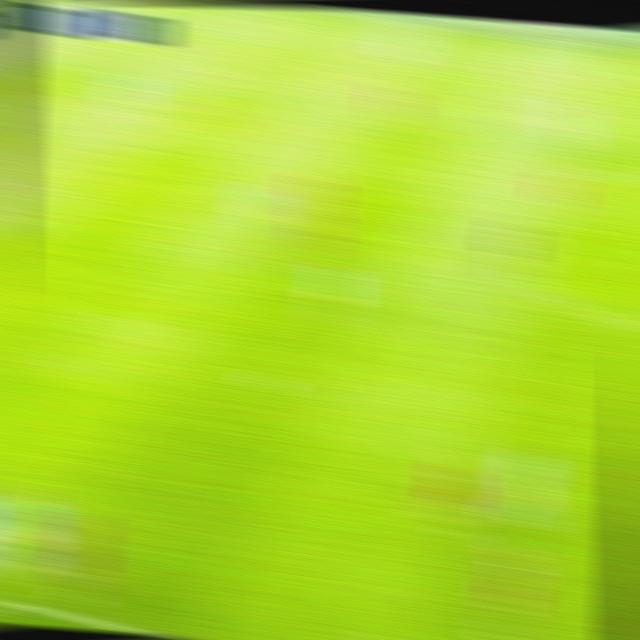bigarea_top_inner: (155, 30, 196, 57)
top_arc_area_intersection: (78, 84, 118, 111)
